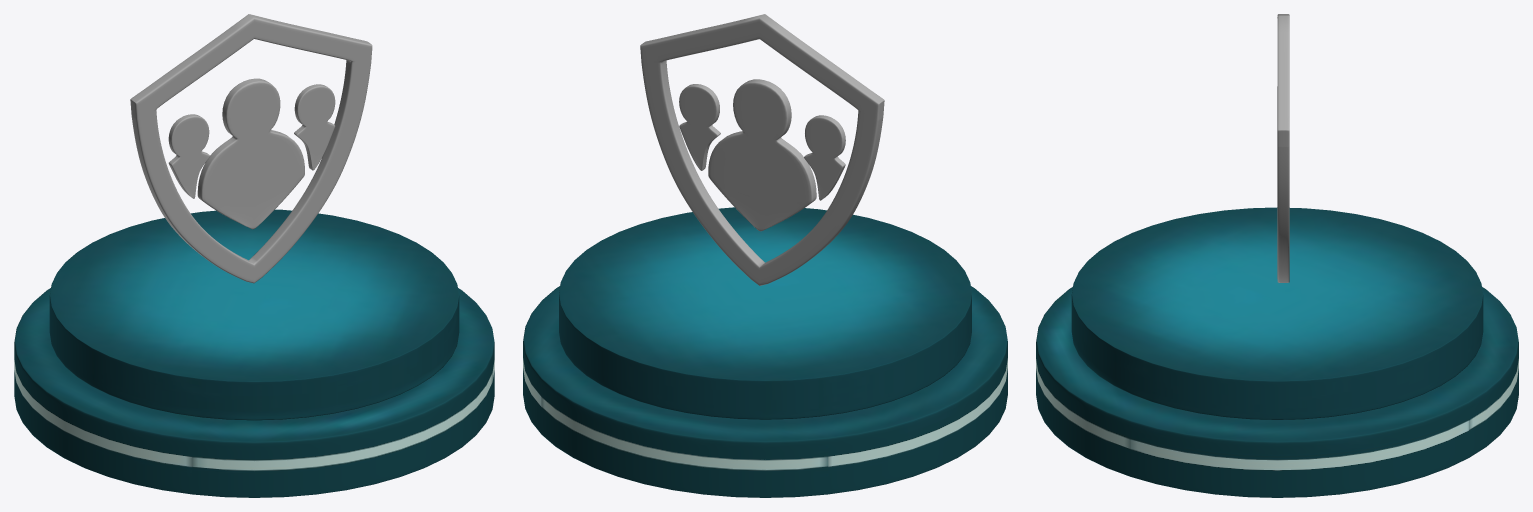
Rendered from Escudo_2.gltf.
3 views of the same model, side by side, from view 1: azimuth 30°, elevation 25°; view 2: azimuth 150°, elevation 25°; view 3: azimuth 270°, elevation 25° (orthographic).
Visible parts, largest first — view 1: Base, escudo.001, persona1, persona2, persona3; view 2: Base, escudo.001, persona1, persona2, persona3; view 3: Base, escudo.001.
Boxes of the visible parts, x1,y1,x2,y2 form: Base: [14, 209, 494, 497]; escudo.001: [130, 14, 372, 283]; persona1: [197, 78, 304, 229]; persona2: [294, 84, 335, 170]; persona3: [168, 114, 209, 198]; Base: [523, 207, 1007, 497]; escudo.001: [640, 14, 884, 285]; persona1: [708, 79, 816, 231]; persona2: [679, 84, 720, 170]; persona3: [804, 115, 845, 200]; Base: [1036, 207, 1518, 497]; escudo.001: [1277, 14, 1289, 282].
Size of the model in its own units: 2.91 by 2.53 by 2.91.
Materials: 3 (1 with a texture image).
